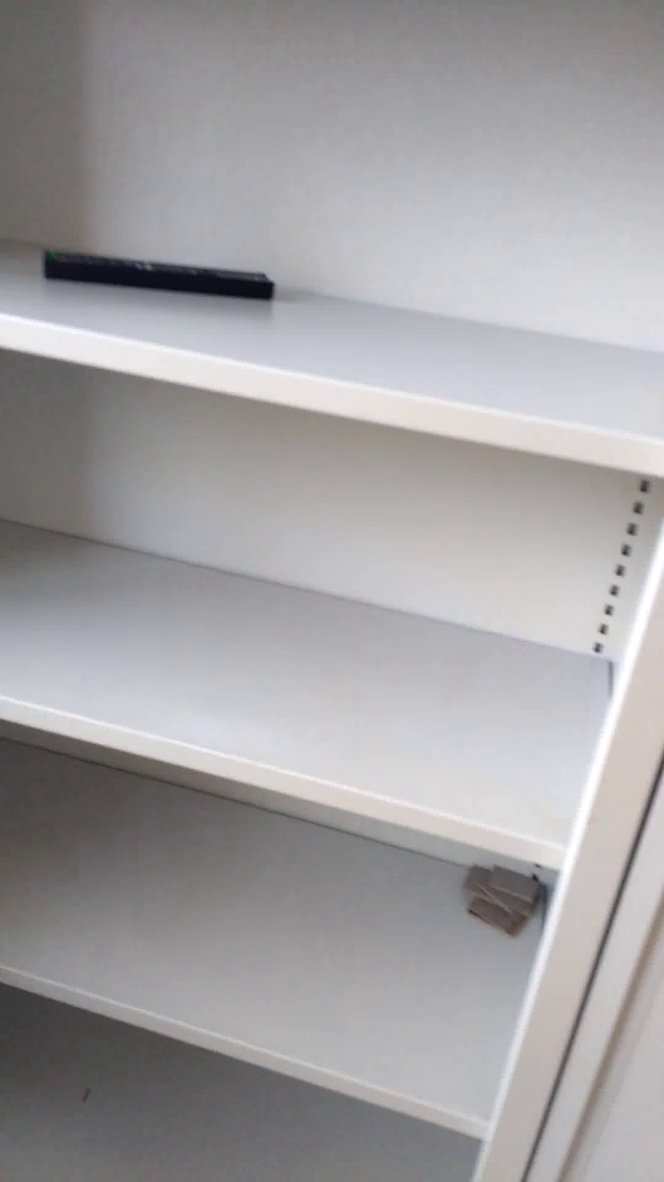remote: (36, 222, 285, 308)
